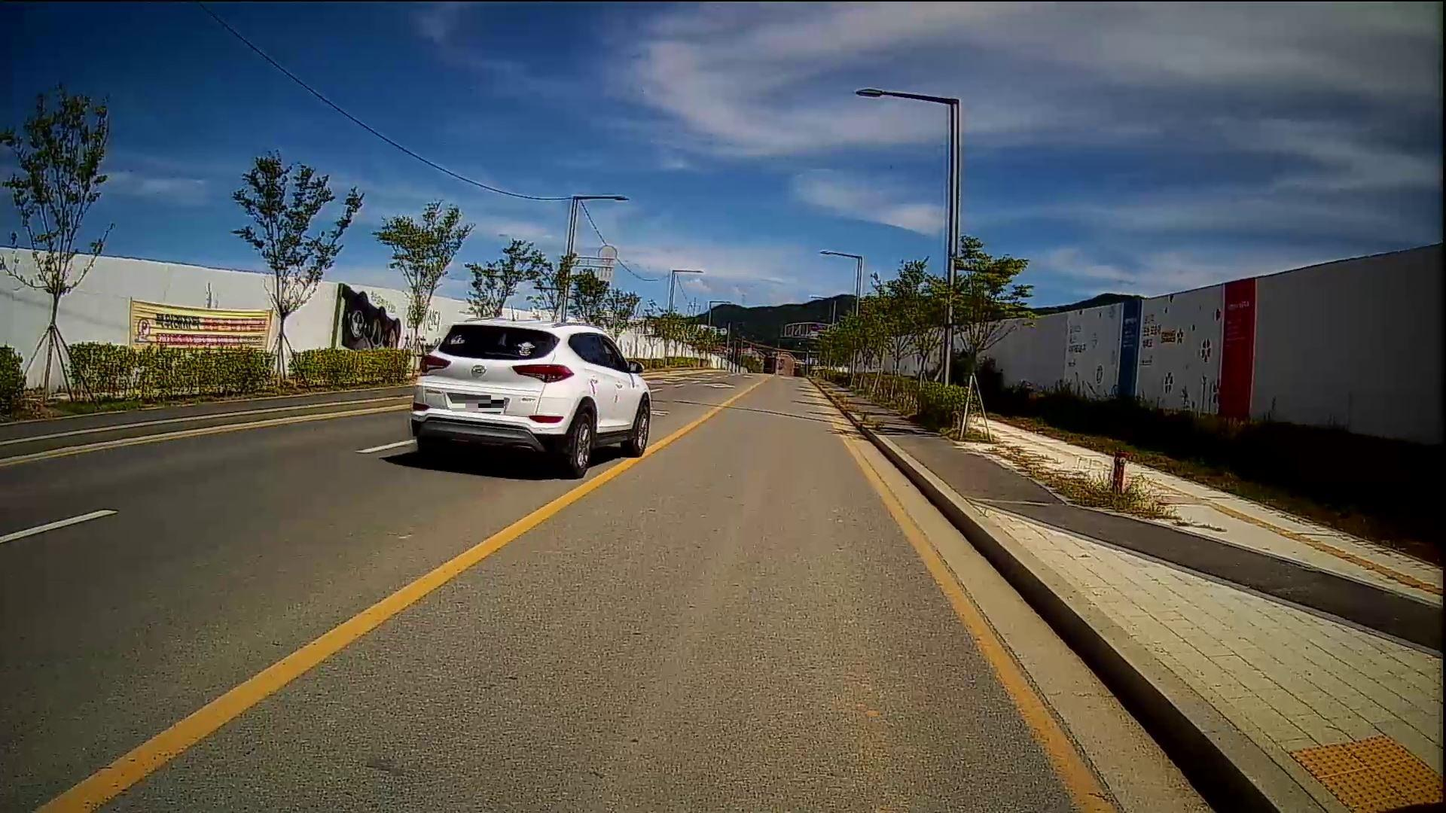vehicle: (410, 319, 653, 482)
